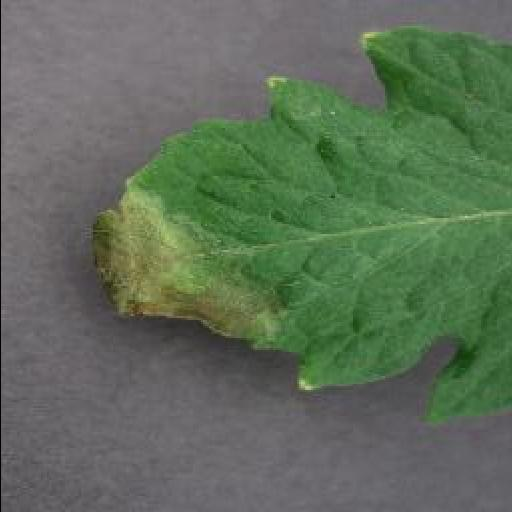disease_tomato: (88, 26, 512, 430)
